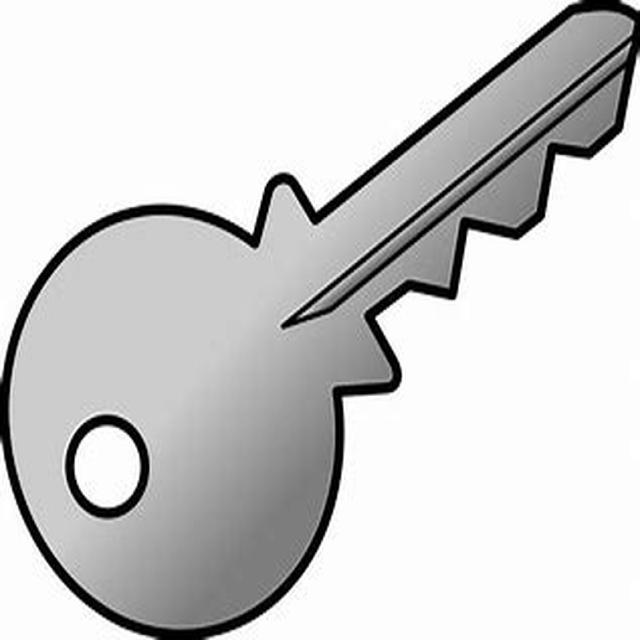key: (8, 11, 636, 640)
